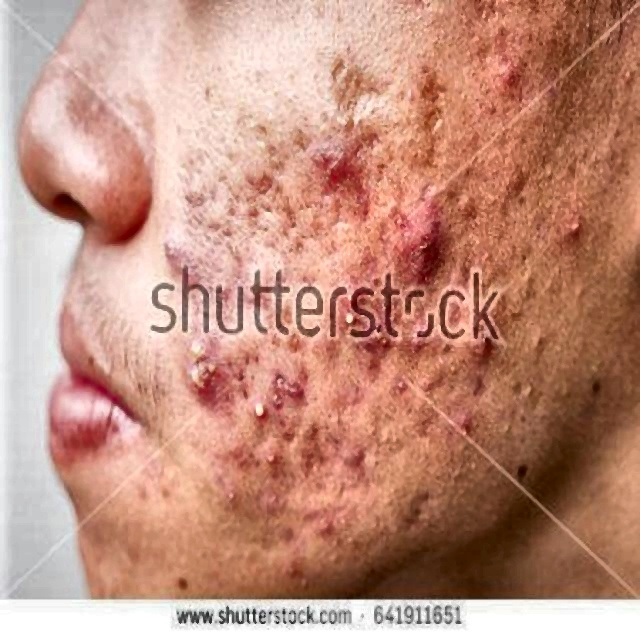papule: (401, 216, 438, 273), (316, 147, 346, 196), (244, 170, 274, 212), (297, 420, 336, 452), (362, 307, 388, 355), (556, 202, 587, 242), (179, 254, 211, 291), (465, 317, 494, 357), (489, 58, 516, 95), (280, 369, 310, 402), (448, 406, 476, 440), (278, 559, 308, 590), (387, 369, 417, 400), (402, 319, 430, 351), (190, 355, 212, 394), (356, 186, 378, 220), (340, 438, 365, 466), (336, 299, 357, 331), (263, 486, 283, 519), (314, 509, 334, 539), (254, 447, 278, 472), (462, 182, 480, 214), (225, 480, 243, 511), (511, 167, 529, 196), (186, 327, 205, 353), (167, 236, 180, 273), (222, 438, 239, 464), (243, 396, 262, 418)
